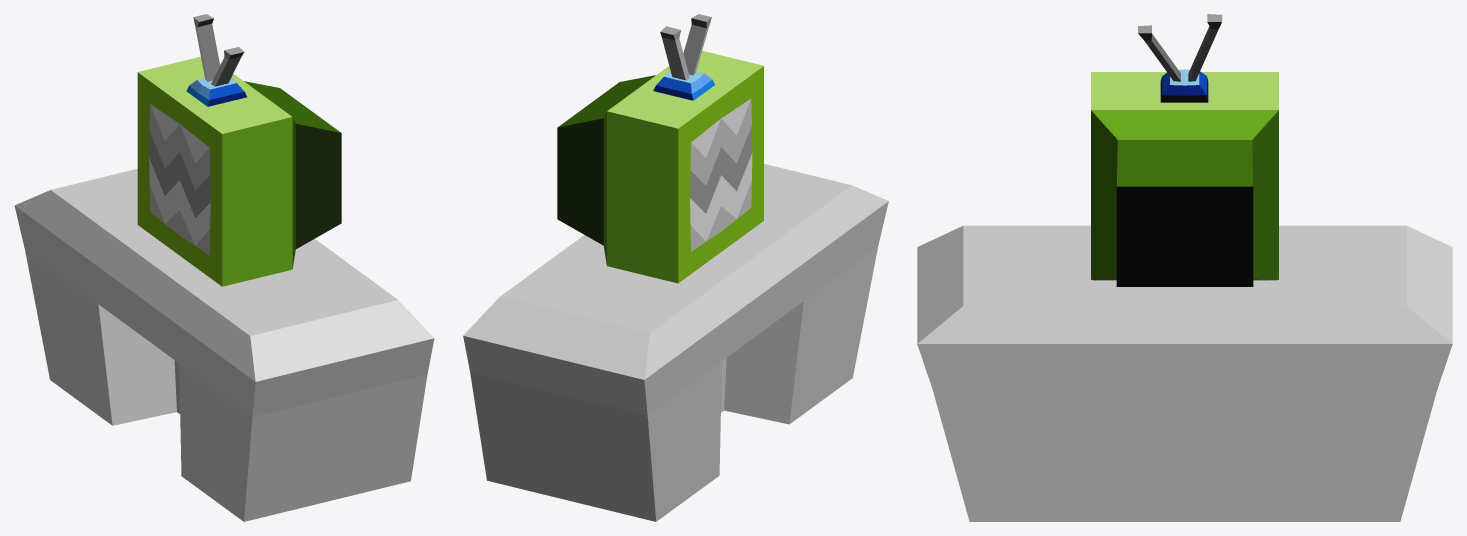
The model's file is TV set.fbx.
3 views of the same model, side by side, from view 1: azimuth 30°, elevation 25°; view 2: azimuth 150°, elevation 25°; view 3: azimuth 270°, elevation 25° (orthographic). The views are drawn at different scales.
Parts seen in each view (by area): view 1: Cube, Cube.001; view 2: Cube, Cube.001; view 3: Cube, Cube.001.
Part boxes in pixels (x1,y1,x2,y2): Cube: (14, 168, 434, 521); Cube.001: (137, 14, 341, 286); Cube: (463, 164, 888, 521); Cube.001: (557, 14, 763, 283); Cube: (917, 225, 1452, 521); Cube.001: (1091, 14, 1278, 286).
Size of the model in its own units: 147 by 320 by 344.
Materials: 1 (1 with a texture image).
